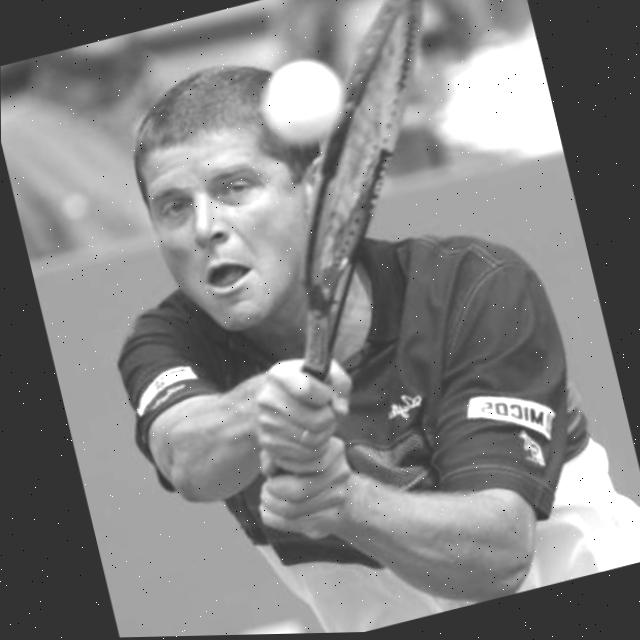face: (106, 39, 376, 346)
